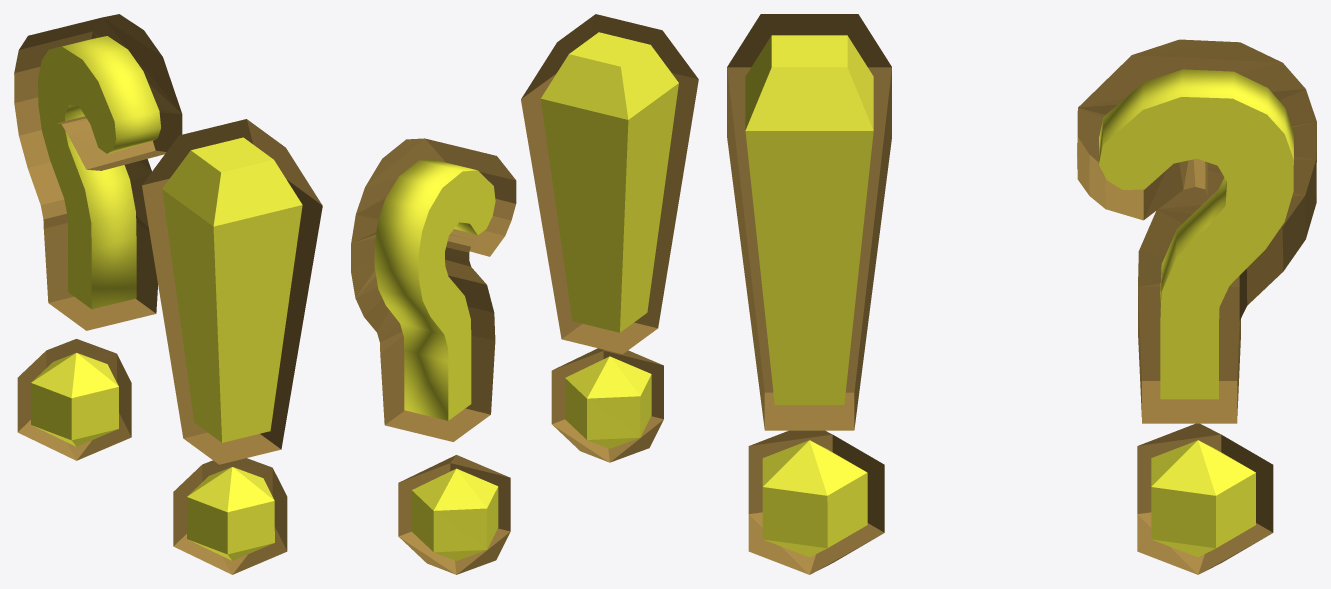
Rendered from quest_marker.glb.
The picture shows the model from 3 angles, left to right: view 1: azimuth 30°, elevation 25°; view 2: azimuth 150°, elevation 25°; view 3: azimuth 270°, elevation 25°; orthographic projection. The views are drawn at different scales.
Parts seen in each view (by area): view 1: quest_0, complete_1; view 2: quest_0, complete_1; view 3: complete_1, quest_0.
Boxes of the visible parts, bbox=[...] form: quest_0: bbox=[142, 119, 322, 574]; complete_1: bbox=[14, 14, 182, 460]; quest_0: bbox=[521, 14, 698, 462]; complete_1: bbox=[351, 138, 516, 574]; complete_1: bbox=[1077, 39, 1316, 574]; quest_0: bbox=[727, 14, 891, 574].
Size of the model in its own units: 2.66 by 9.21 by 9.11.
